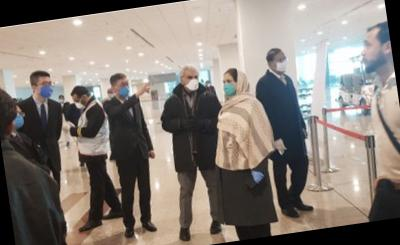with_mask: (36, 78, 55, 100), (9, 109, 26, 133), (115, 78, 133, 98), (183, 73, 201, 93), (272, 54, 289, 74), (222, 77, 237, 96), (71, 96, 87, 111)
without_mask: (358, 35, 384, 73)
